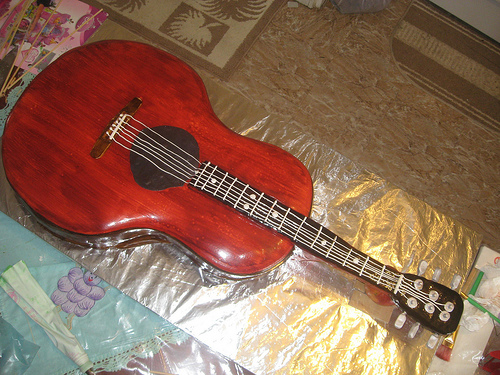guitar: (1, 39, 465, 340)
